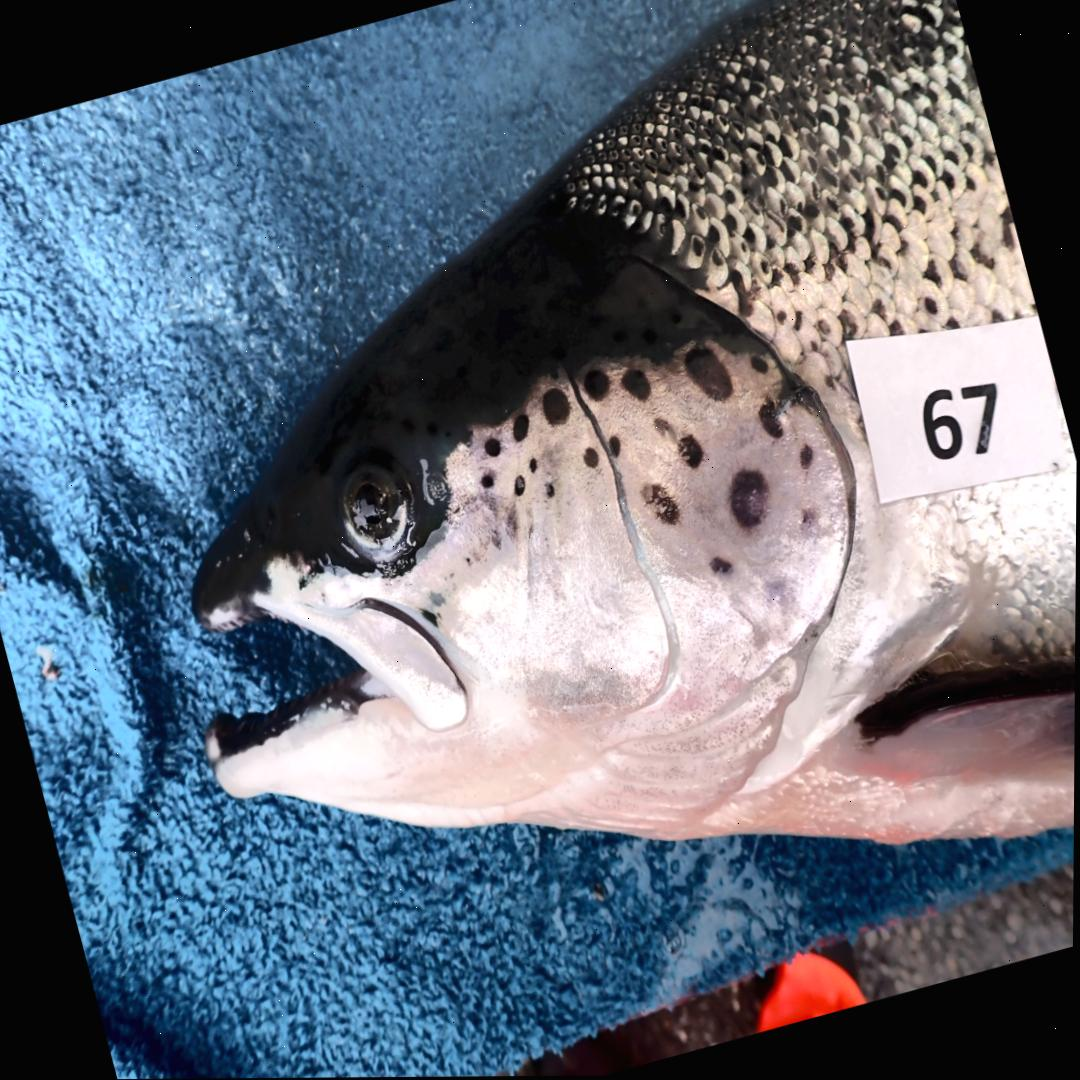spot: (684, 347, 734, 403), (729, 469, 770, 530), (640, 485, 682, 529), (758, 400, 786, 440), (543, 387, 571, 426), (623, 369, 652, 402), (584, 369, 611, 401), (678, 437, 705, 469), (513, 415, 530, 443), (712, 558, 735, 576), (507, 507, 519, 540), (584, 447, 601, 469), (485, 438, 502, 459), (802, 509, 818, 531), (751, 356, 769, 375), (800, 446, 814, 469), (609, 436, 622, 458), (654, 418, 669, 437), (514, 476, 527, 497), (482, 476, 496, 489), (492, 532, 502, 550), (546, 483, 556, 498), (529, 458, 538, 474)
